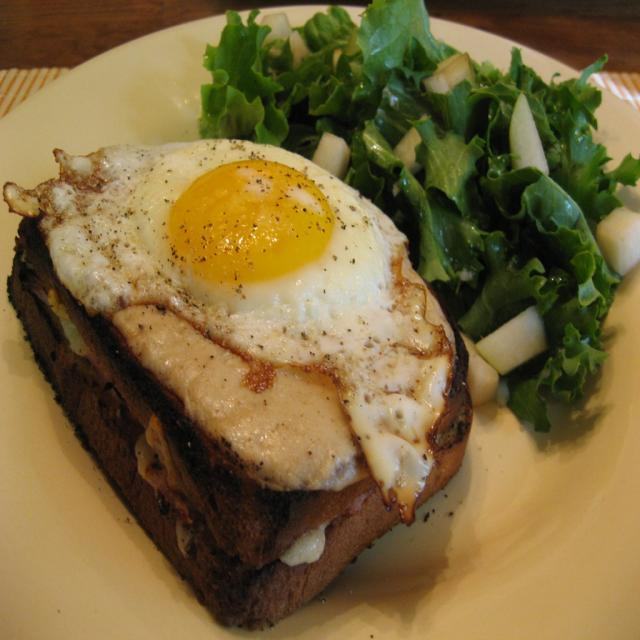Salad: (170, 20, 640, 381)
